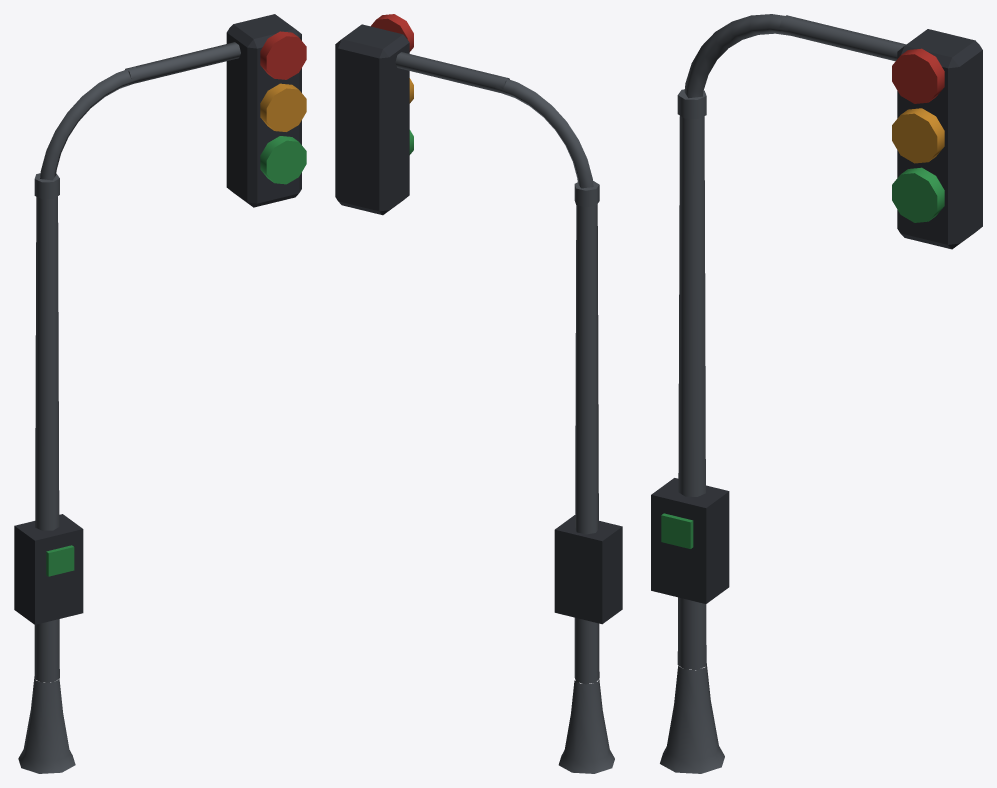
The model's file is traffic-light-01.glb.
The picture shows the model from 3 angles, left to right: view 1: azimuth 30°, elevation 25°; view 2: azimuth 150°, elevation 25°; view 3: azimuth 330°, elevation 25°; orthographic projection. The views are drawn at different scales.
Visible parts, largest first — view 1: traffic_light_01; view 2: traffic_light_01; view 3: traffic_light_01.
Boxes of the visible parts, x1,y1,x2,y2 form: traffic_light_01: (14, 14, 306, 773); traffic_light_01: (335, 14, 622, 773); traffic_light_01: (651, 14, 982, 773).
Size of the model in its own units: 1.68 by 4.09 by 0.3999.
